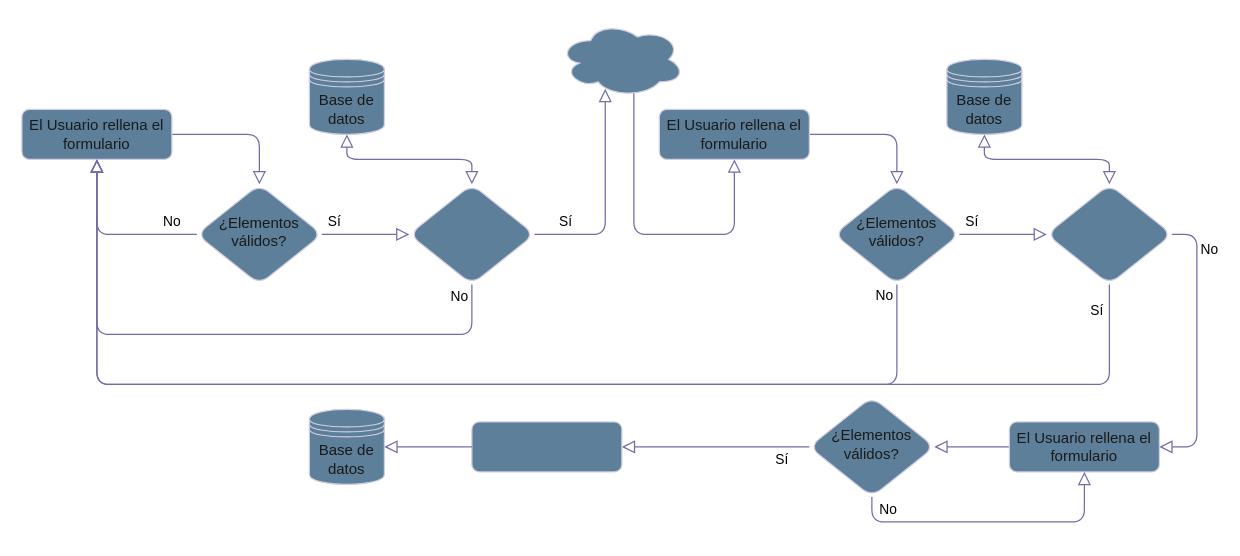
This 1240x556 diagram has some shape labels left out. The box of each missing label's shape, as (x1, y1, x2, y2) in pixels:
Correo Electrónico: (558, 21, 684, 97)
Se actualizan los datos de usuario: (471, 421, 622, 472)
¿ Usuario ya registrado?: (408, 183, 534, 284)
¿Caducó la petición?: (1046, 183, 1172, 284)
